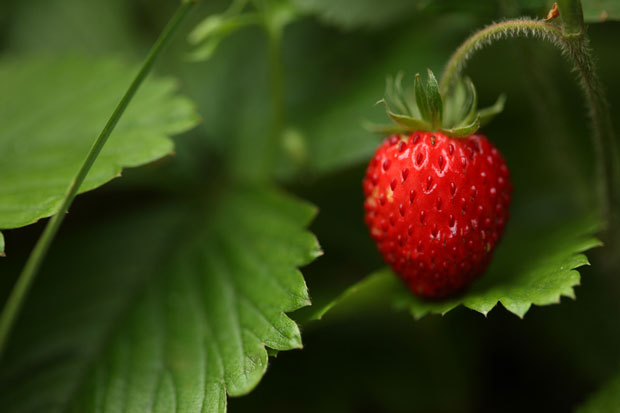ripe_strawberry: (359, 79, 517, 303)
